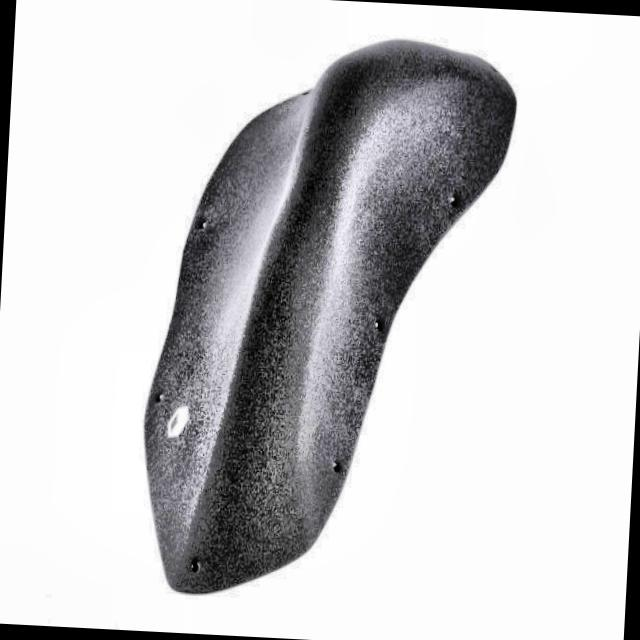Hold: (125, 24, 520, 616)
